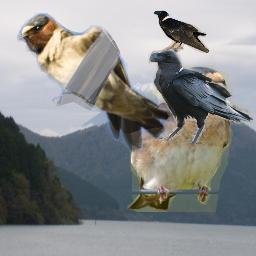Crow: (147, 50, 253, 145), (153, 9, 209, 53)
Swallow: (17, 13, 176, 153), (127, 66, 234, 212)
